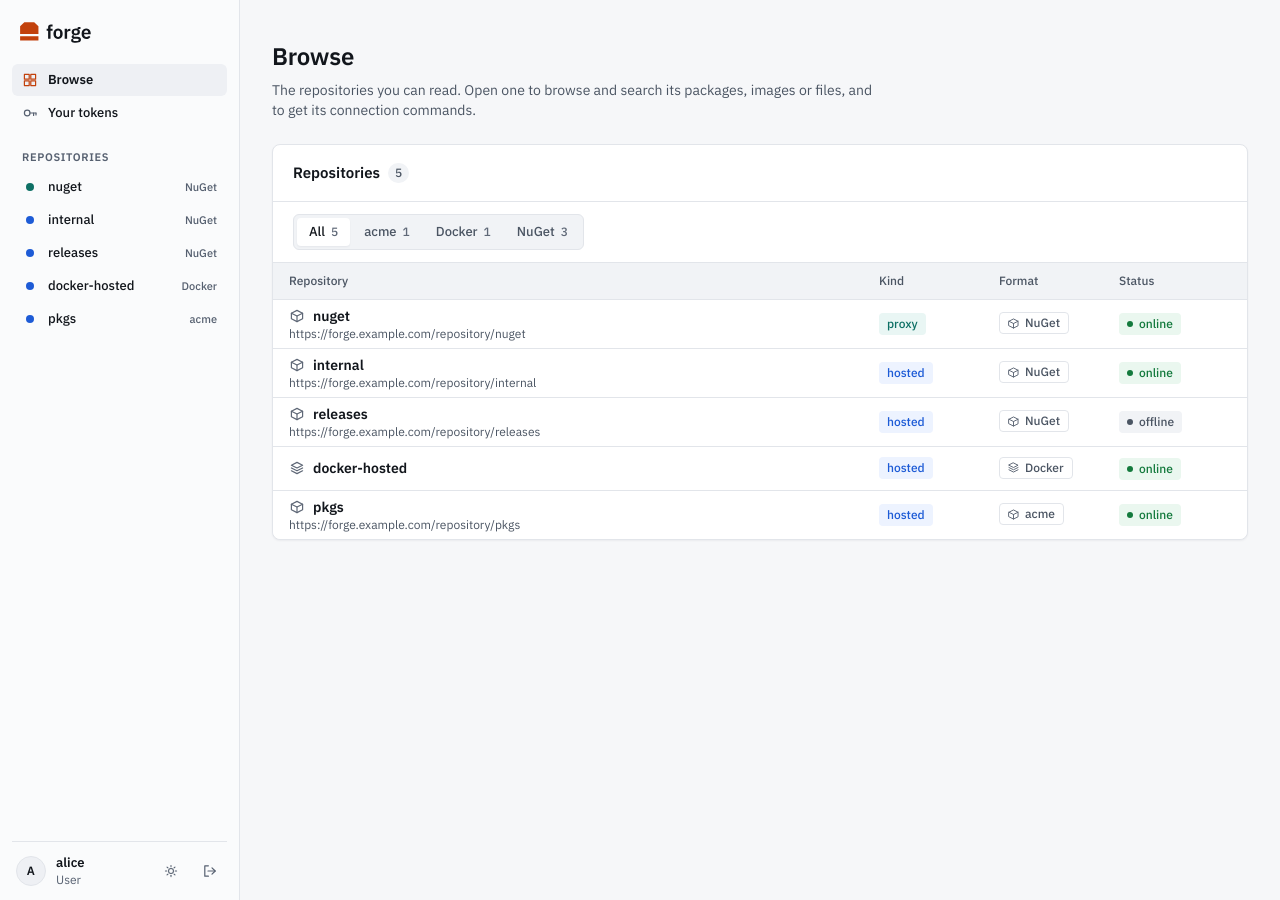
Test: Browse root (repository folders) › navigates into a repository when its folder is clicked
This screenshot has width=1280, height=900.
Click the link "nuget": point(320, 316) x1=289 y1=306 x2=350 y2=324
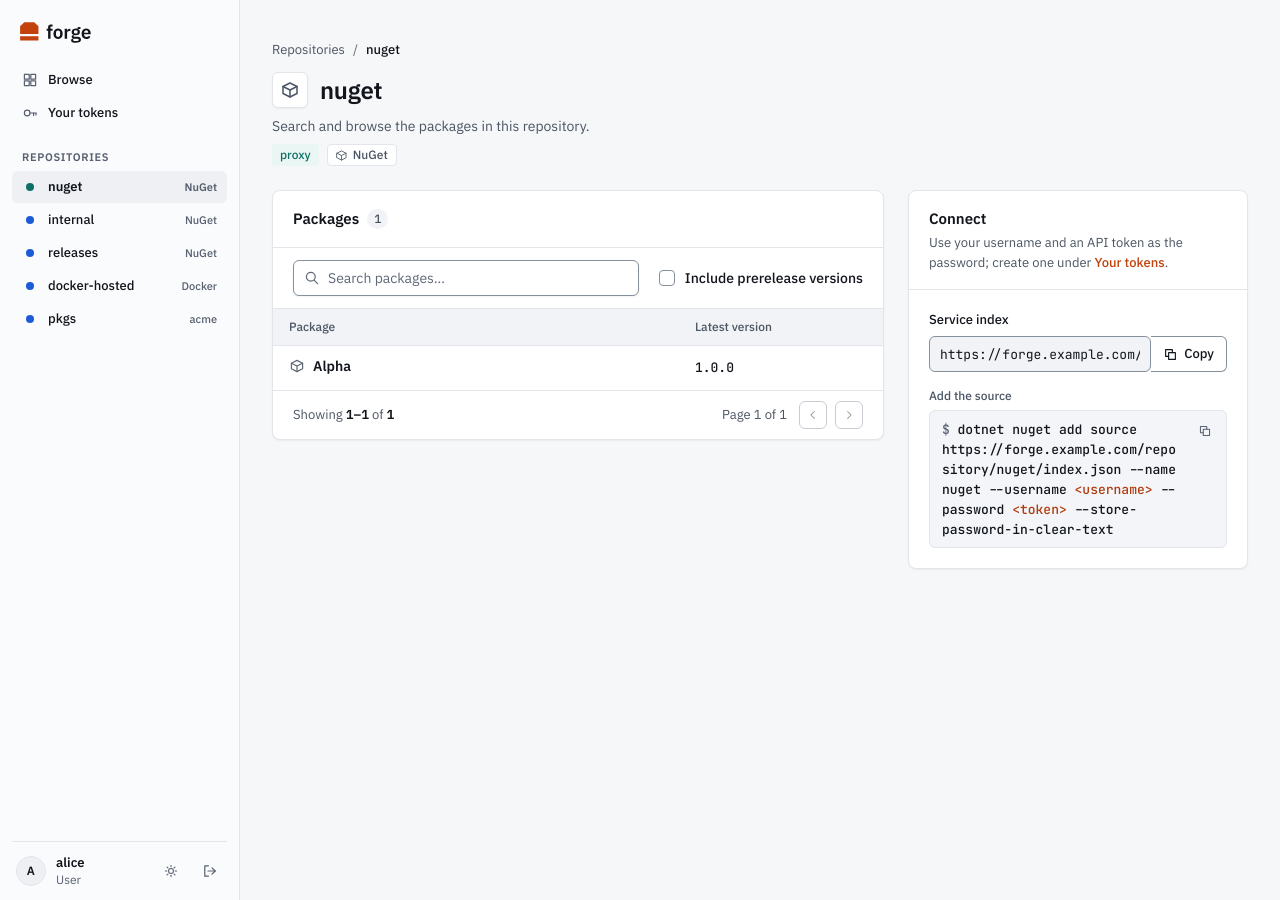
Expected: the link "Alpha" is shown, x1=289 y1=356 x2=351 y2=376
